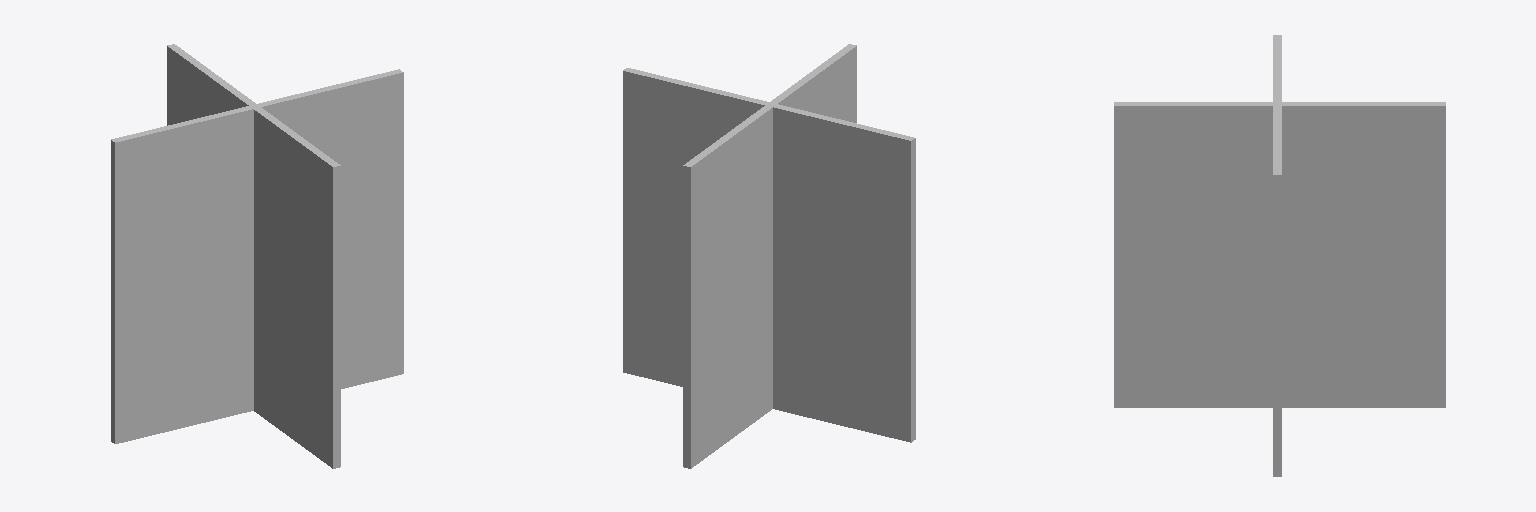
The model's file is grass.obj.
The picture shows the model from 3 angles: view 1: azimuth 30°, elevation 25°; view 2: azimuth 150°, elevation 25°; view 3: azimuth 270°, elevation 25°; orthographic projection.
Parts seen in each view (by area): view 1: Cube_Cube.001, Cube.001_Cube.002; view 2: Cube_Cube.001, Cube.001_Cube.002; view 3: Cube.001_Cube.002, Cube_Cube.001.
Boxes of the visible parts, box(x1,y1,x2,y2) form: Cube_Cube.001: box(111, 69, 403, 443); Cube.001_Cube.002: box(167, 44, 340, 468); Cube_Cube.001: box(623, 68, 915, 442); Cube.001_Cube.002: box(683, 44, 856, 468); Cube.001_Cube.002: box(1114, 102, 1445, 407); Cube_Cube.001: box(1273, 35, 1281, 476).
Bounding box in the file's own units: 2 × 2 × 2.